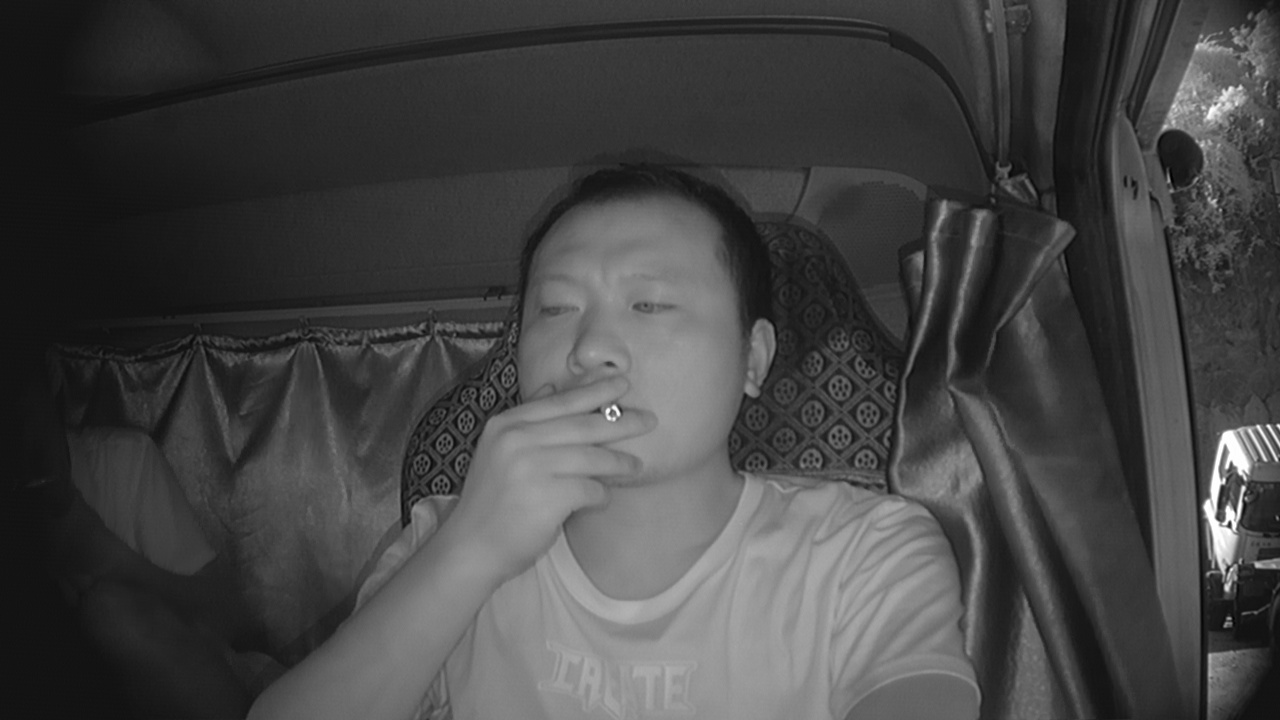hand: (499, 369, 652, 528)
